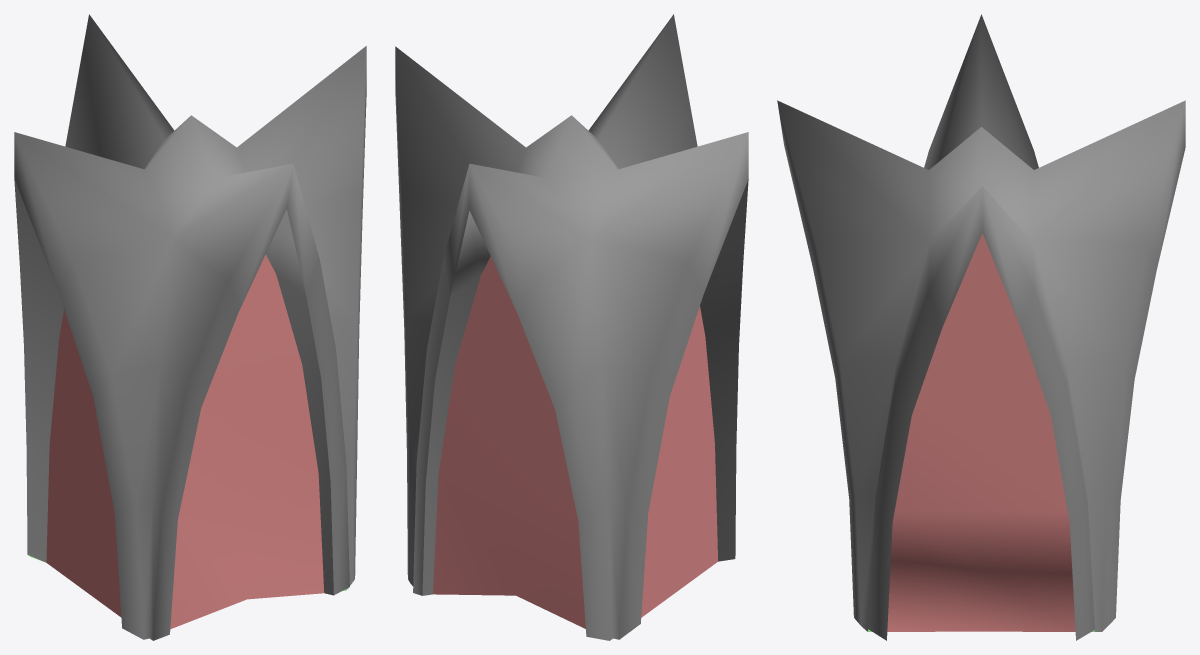
Rendered from skruins_transcept02.gltf.
3 views of the same model, side by side, from view 1: azimuth 30°, elevation 25°; view 2: azimuth 150°, elevation 25°; view 3: azimuth 270°, elevation 25° (orthographic).
Visible parts, largest first — view 1: skruins_transcept02; view 2: skruins_transcept02; view 3: skruins_transcept02.
Part boxes in pixels (x1,y1,x2,y2): skruins_transcept02: [14, 14, 366, 640]; skruins_transcept02: [395, 14, 748, 640]; skruins_transcept02: [777, 14, 1185, 640].
Size of the model in its own units: 0.7208 by 0.9747 by 0.7232.
